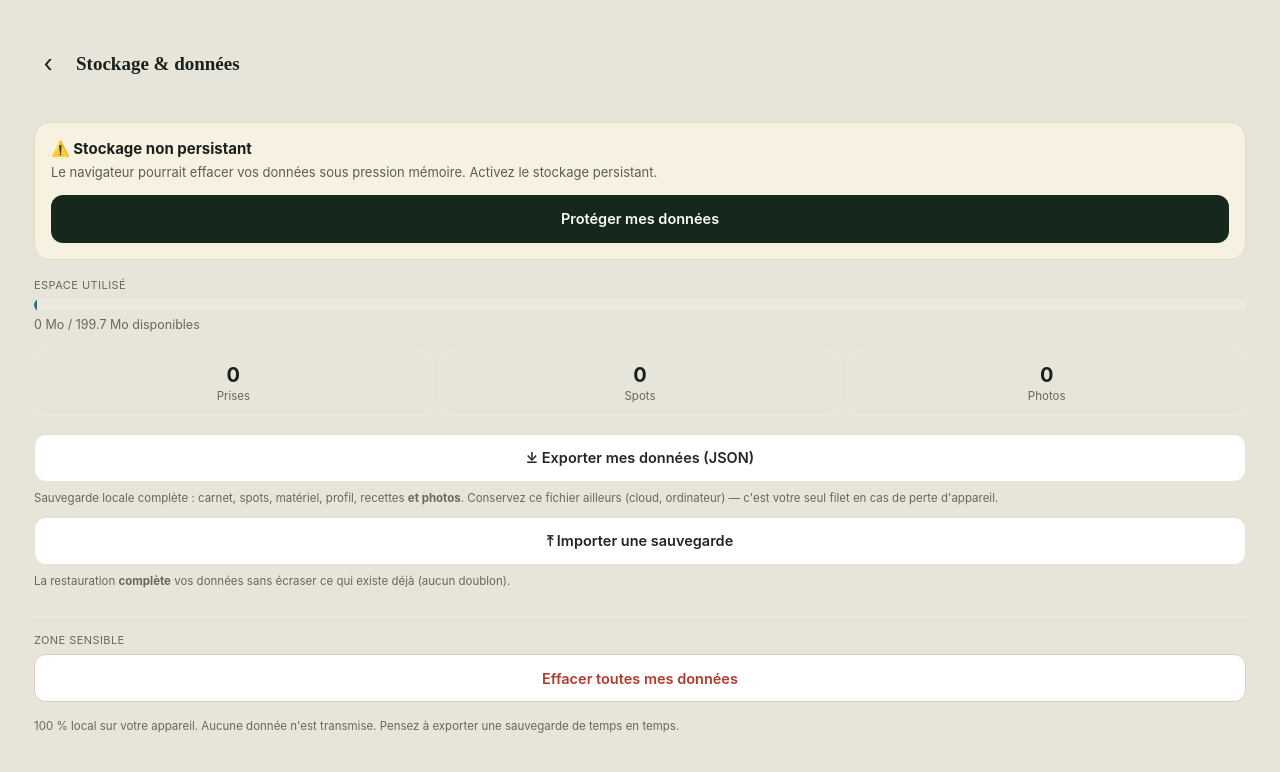
Stockage — export amputé › dit que ce fichier ne remplace pas une sauvegarde entière
Click the button "⤓ Exporter mes données (JSON)" at (640, 458), box [34, 434, 1246, 482]
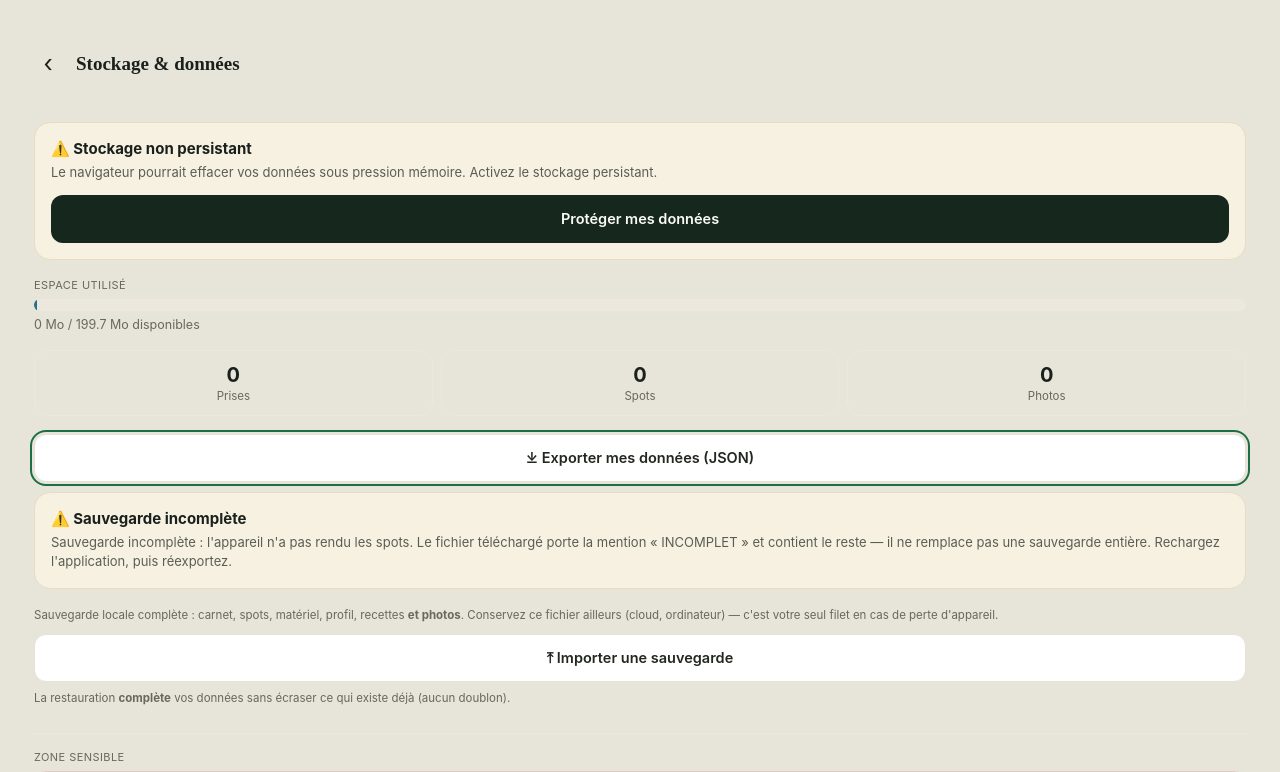
expect the message shows "spots": met, box [51, 534, 1220, 569]
expect the message shows "ne remplace pas une sauvegarde entière": met, box [51, 534, 1220, 569]
